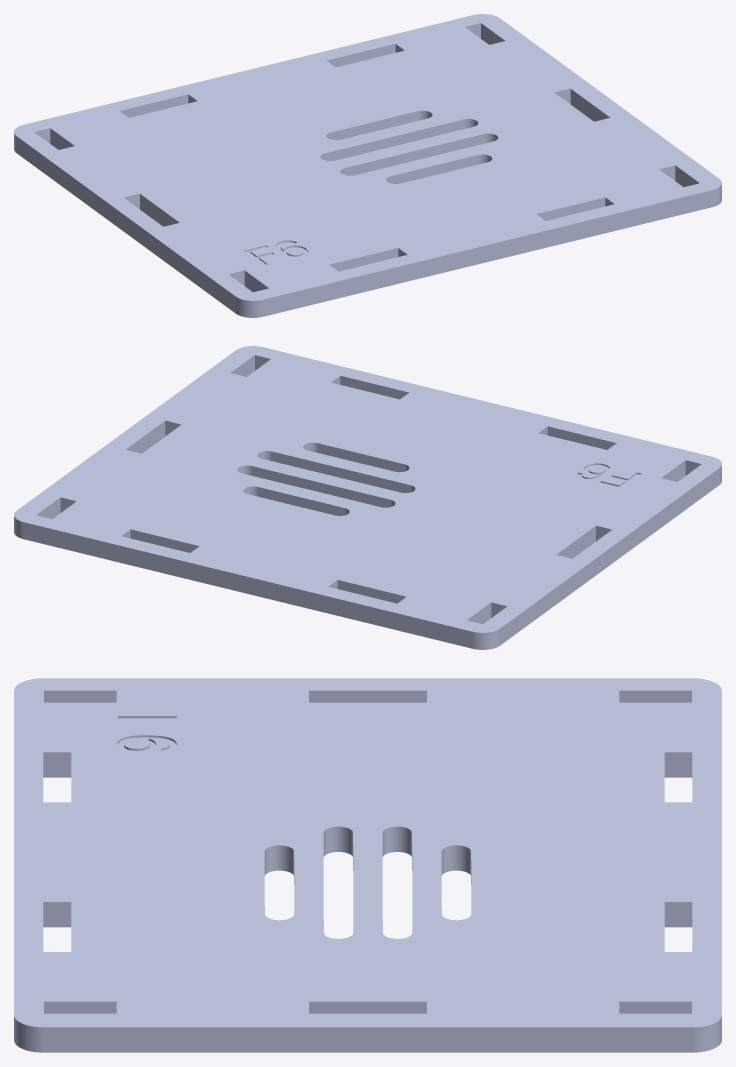
3 views of the same model, one above another, from view 1: azimuth 30°, elevation 25°; view 2: azimuth 150°, elevation 25°; view 3: azimuth 270°, elevation 25° (orthographic). The views are drawn at different scales.
Parts seen in each view (by area): view 1: F6; view 2: F6; view 3: F6.
Part boxes in pixels (x1,y1,x2,y2): F6: (14, 14, 721, 317); F6: (14, 346, 721, 649); F6: (14, 678, 721, 1052).
Bounding box in the file's own units: 0.0889 × 0.003 × 0.0762.
